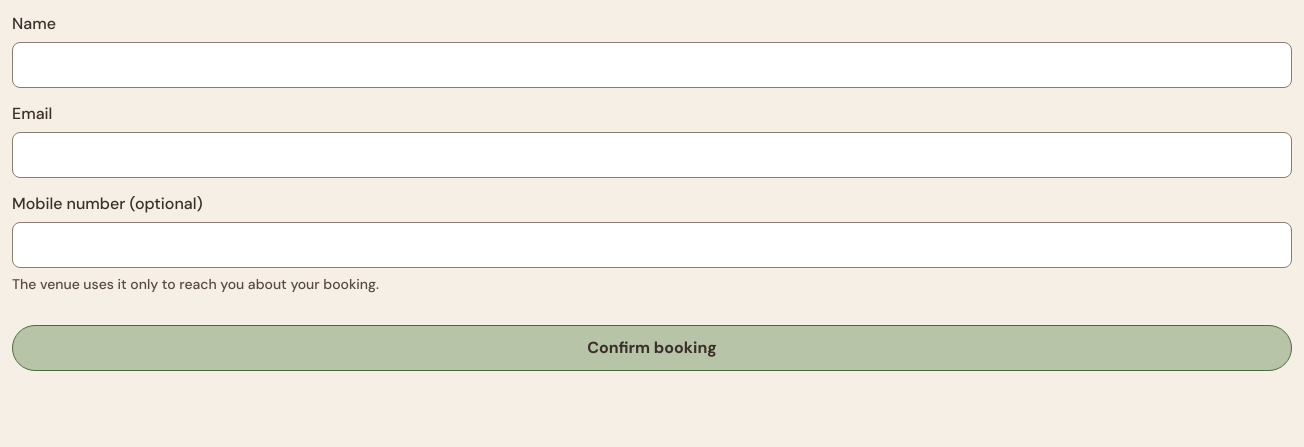
Test case: CheckoutForm › shows field errors and does not submit an incomplete guest form
Click the button "Confirm booking".
click(652, 348)  # box [12,325,1292,371]
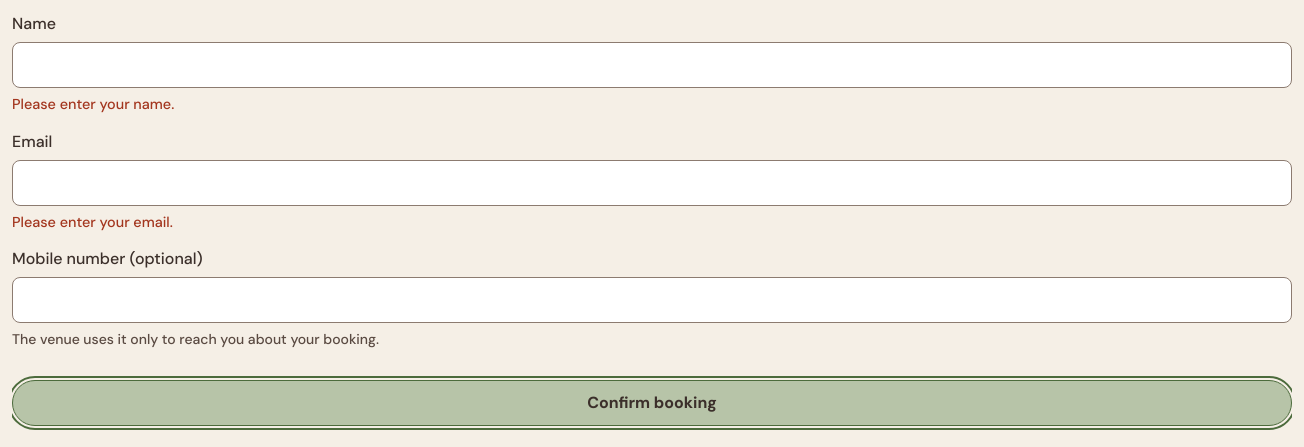
Check: the text "Please enter your name." is shown, box [12,95,174,113]
